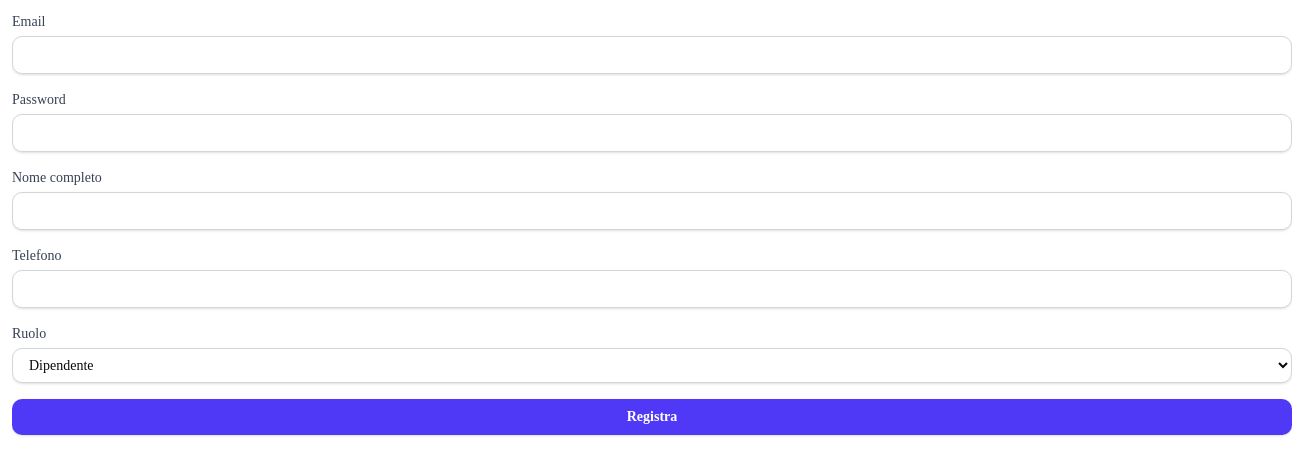
RegisterPage / RegisterForm › validation › shows invalid email format error
Type "non-un-email" into the field labelled "Email" at (652,55), box 12,36 -> 1292,74
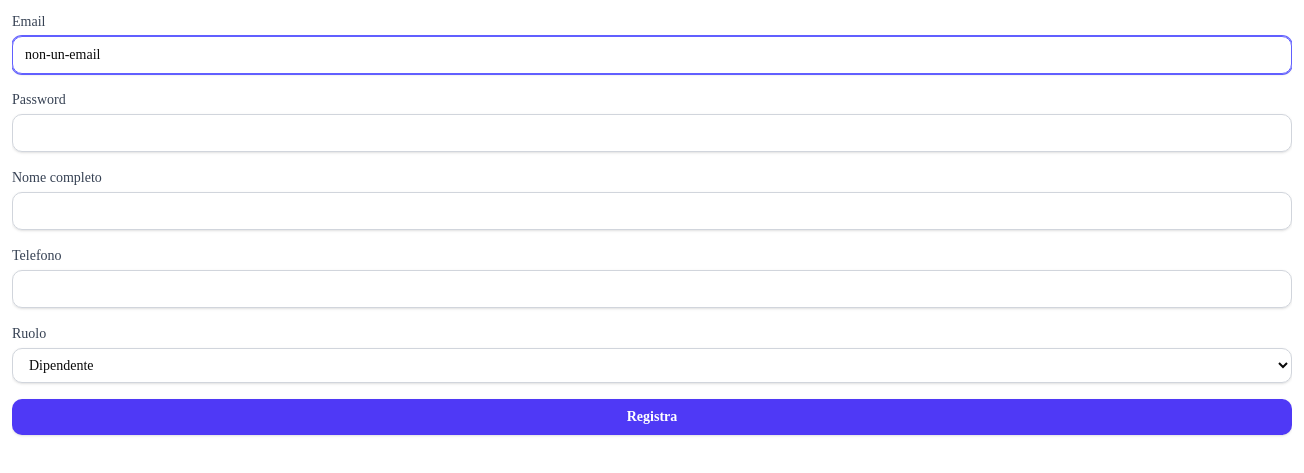
Type "password123" into the password field labelled "Password" at (652,133), box 12,114 -> 1292,152
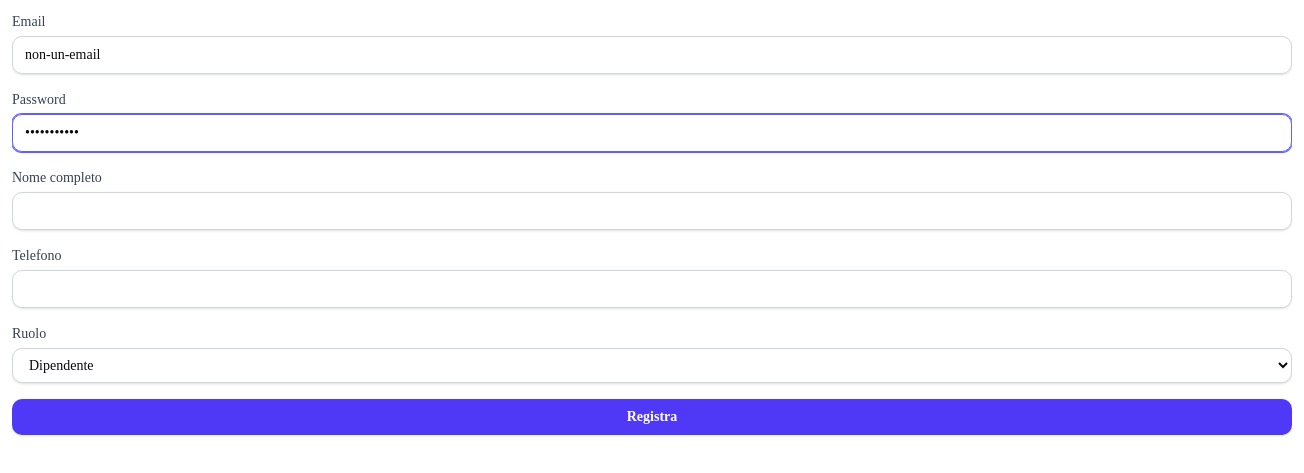
Type "Mario Rossi" into the field labelled "Nome completo" at (652,211), box 12,192 -> 1292,230
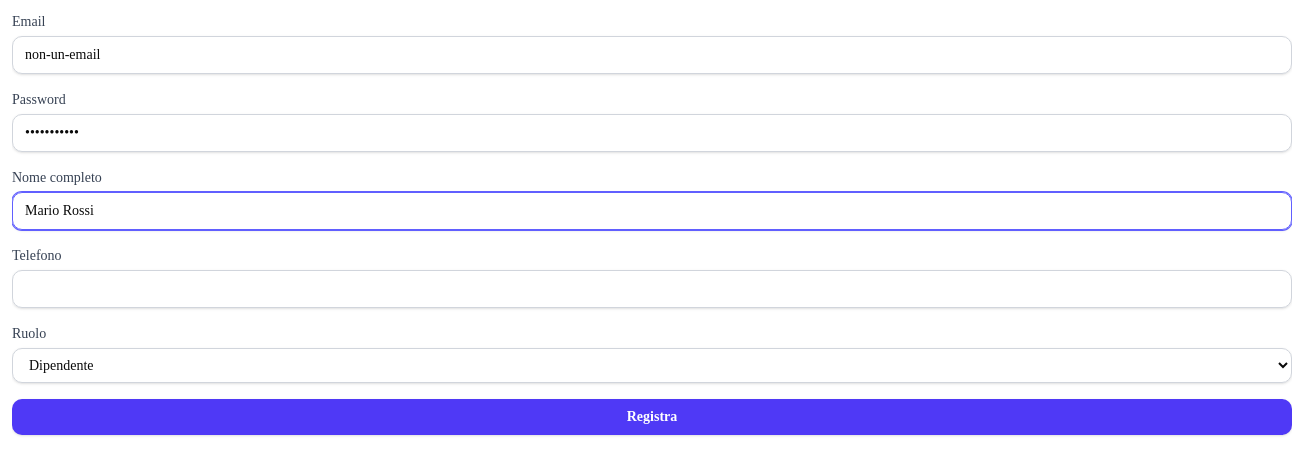
Type "3331234567" into the field labelled "Telefono" at (652,289), box 12,270 -> 1292,308
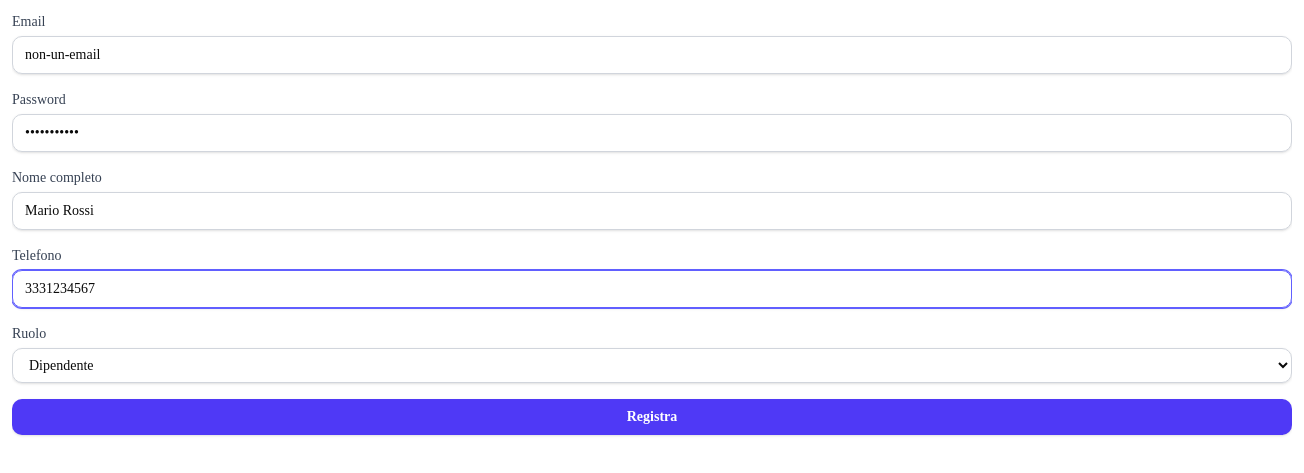
Click the button "Registra" at (652,417), box 12,399 -> 1292,435
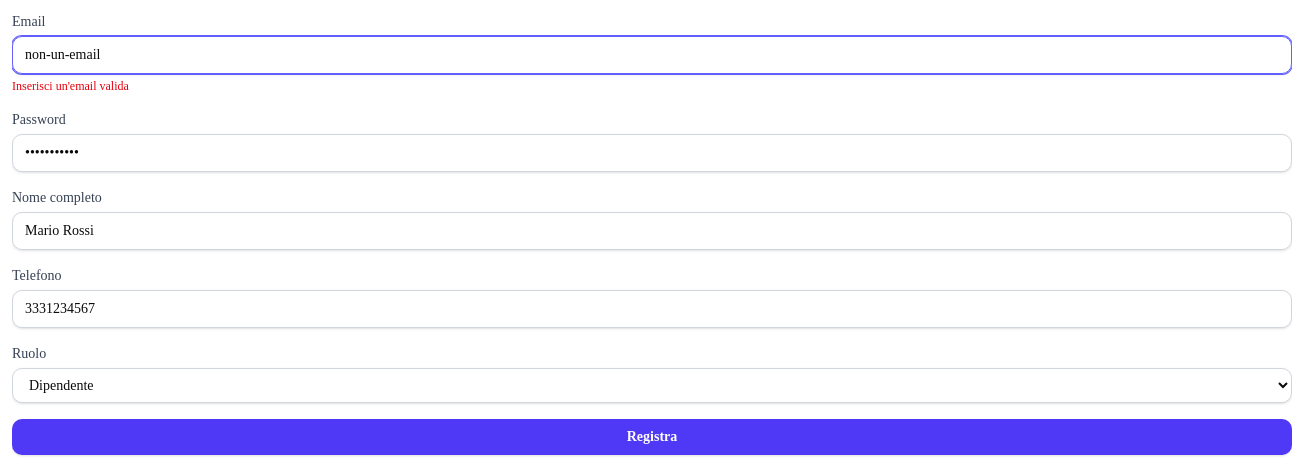
Check: the text "Inserisci un'email valida" is shown, box 12,79 -> 129,93
